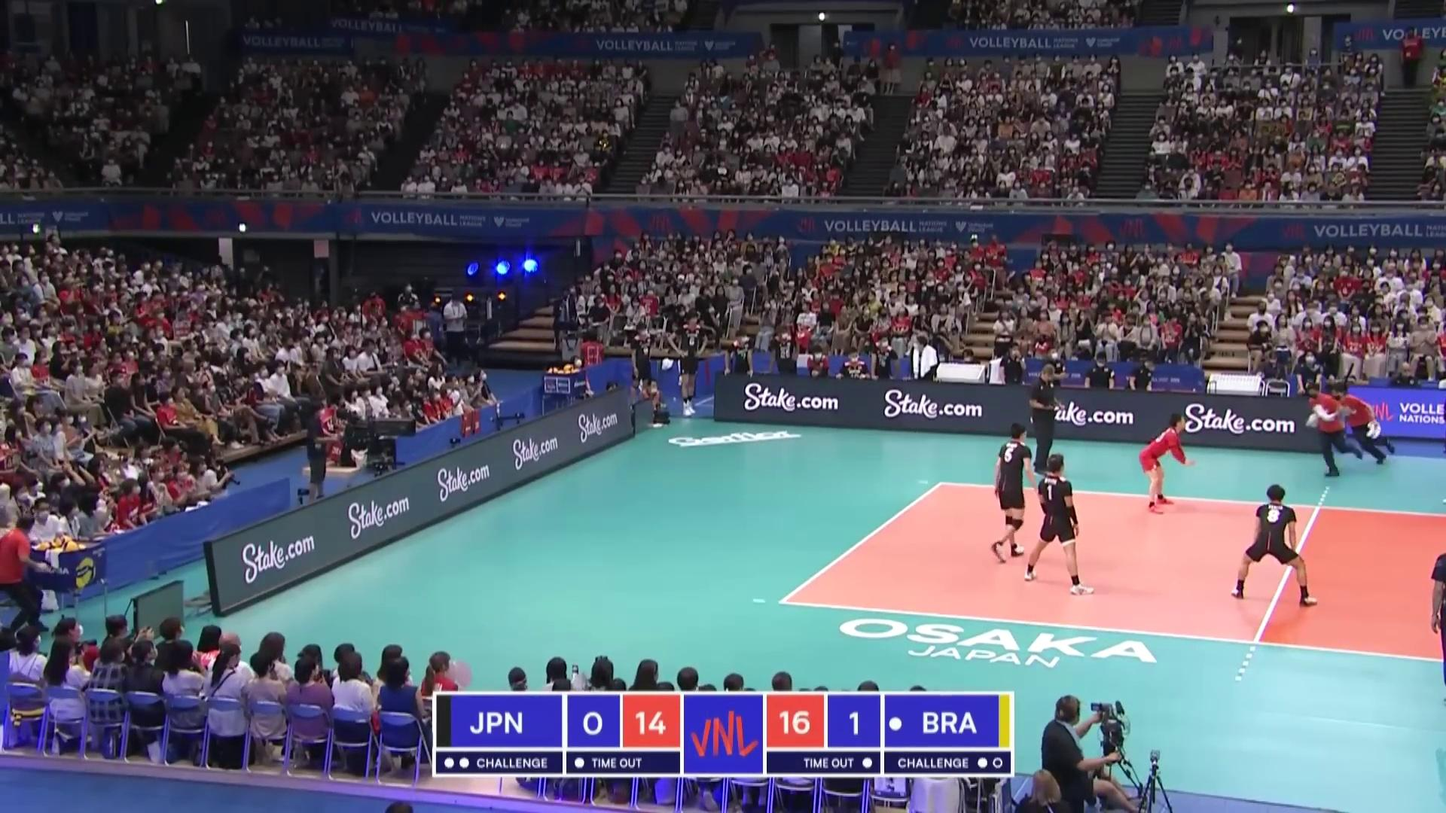player: (1228, 484, 1318, 606), (1022, 453, 1094, 596), (987, 423, 1035, 562), (1136, 415, 1193, 515)
